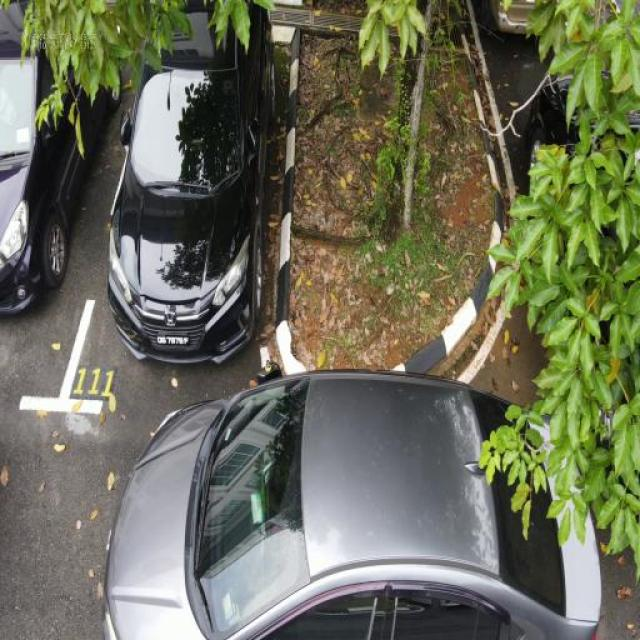Legalparking: (1, 7, 326, 367)
illegalparking: (2, 374, 640, 640)
